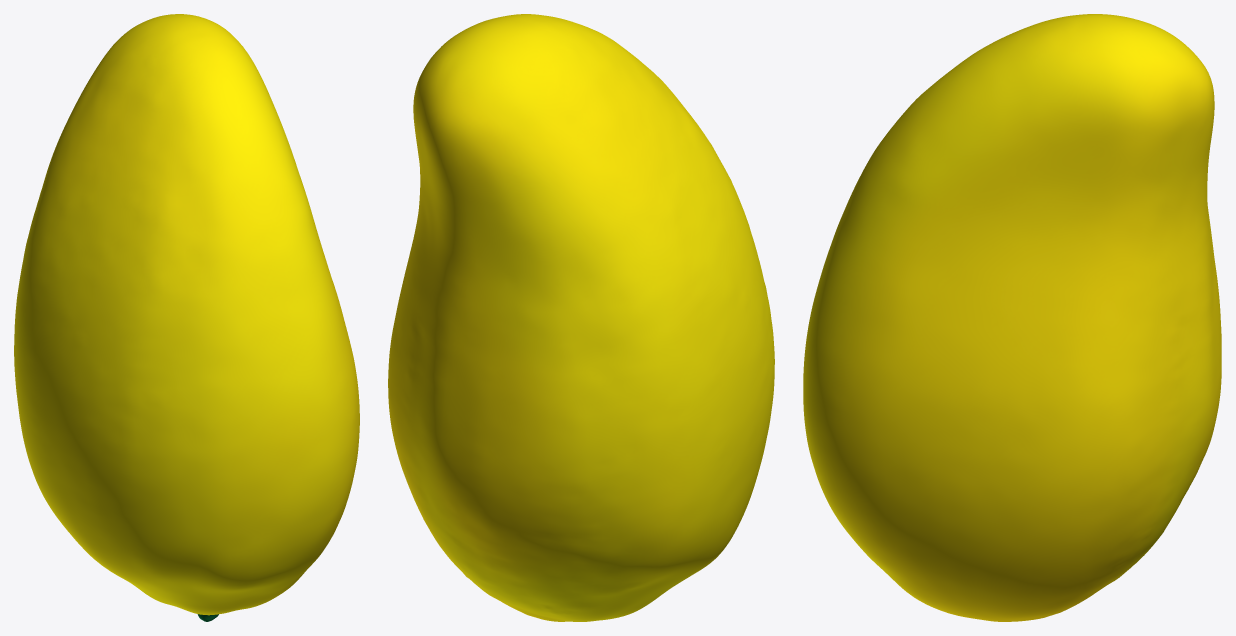
The model's file is mongo.glb.
3 views of the same model, side by side, from view 1: azimuth 30°, elevation 25°; view 2: azimuth 150°, elevation 25°; view 3: azimuth 270°, elevation 25° (orthographic). The views are drawn at different scales.
Visible parts, largest first — view 1: model; view 2: model; view 3: model.
Boxes of the visible parts, left/top/right/bottom form: model: left=14, top=14, right=359, bottom=621; model: left=388, top=14, right=774, bottom=621; model: left=803, top=14, right=1221, bottom=621.
Bounding box in the file's own units: 0.0641 × 0.12 × 0.0745.
1 material, 1 textured.
